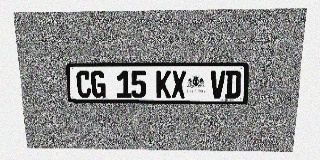1: (116, 71, 131, 98)
5: (131, 71, 146, 98)
C: (76, 71, 91, 98)
D: (225, 70, 241, 98)
G: (91, 71, 106, 98)
K: (156, 71, 171, 98)
V: (210, 71, 226, 98)
X: (171, 71, 186, 98)
